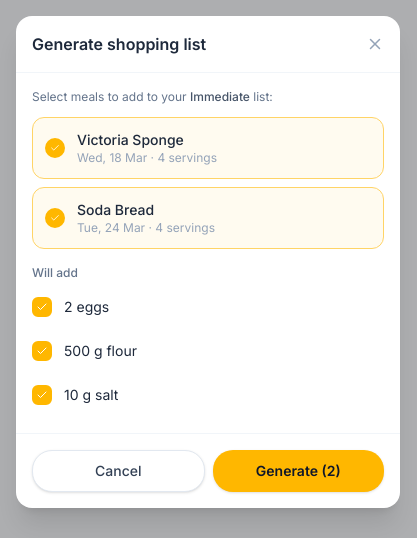
GenerateListModal › cannot generate with nothing selected
This screenshot has width=417, height=538.
What coordinates should you click on to do the following:
click the text "Soda Bread"
I would click on:
 (116, 210)
Its box is [77, 201, 154, 218].
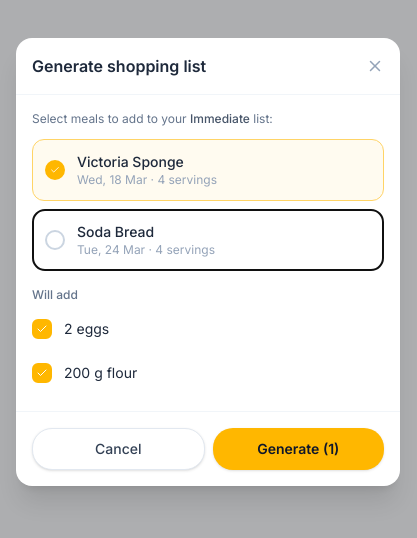
What coordinates should you click on to do the following:
click the text "Victoria Sponge"
I would click on:
 (130, 162)
Its box is [77, 153, 184, 170].
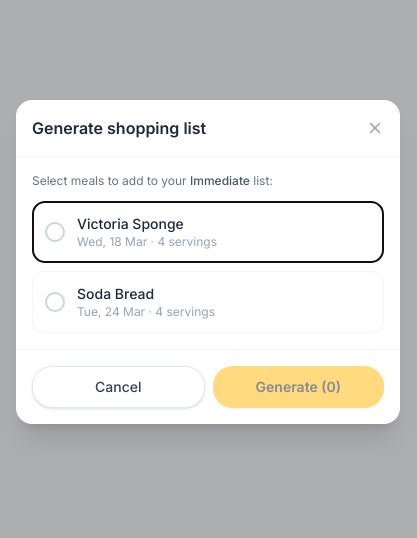
Now the button "Generate (0)" is disabled, box [213, 366, 384, 408]
